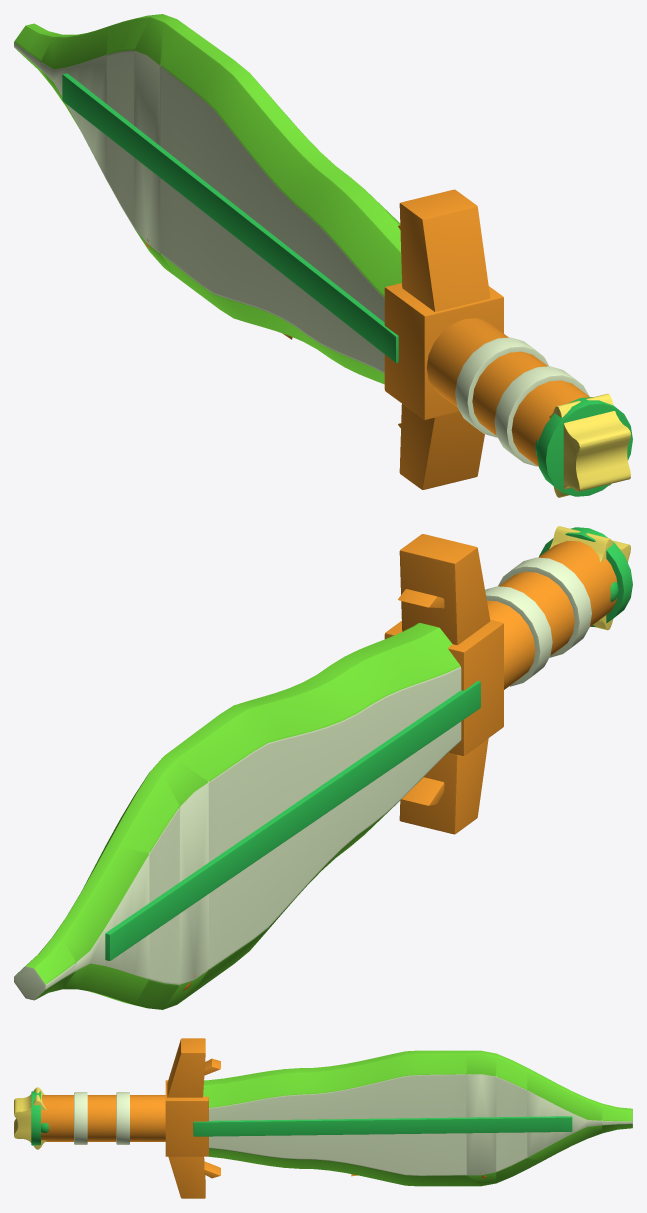
File: RootWarden.glb
3 views of the same model, one above another, from view 1: azimuth 30°, elevation 25°; view 2: azimuth 150°, elevation 25°; view 3: azimuth 270°, elevation 25° (orthographic). The views are drawn at different scales.
Parts seen in each view (by area): view 1: RootWarden; view 2: RootWarden; view 3: RootWarden.
Part boxes in pixels (box(x1,y1,x2,y2)): RootWarden: box(14, 14, 632, 497); RootWarden: box(14, 526, 632, 1009); RootWarden: box(14, 1038, 632, 1198).
Size of the model in its own units: 0.088 by 0.2601 by 1.
Materials: 1 (1 with a texture image).
